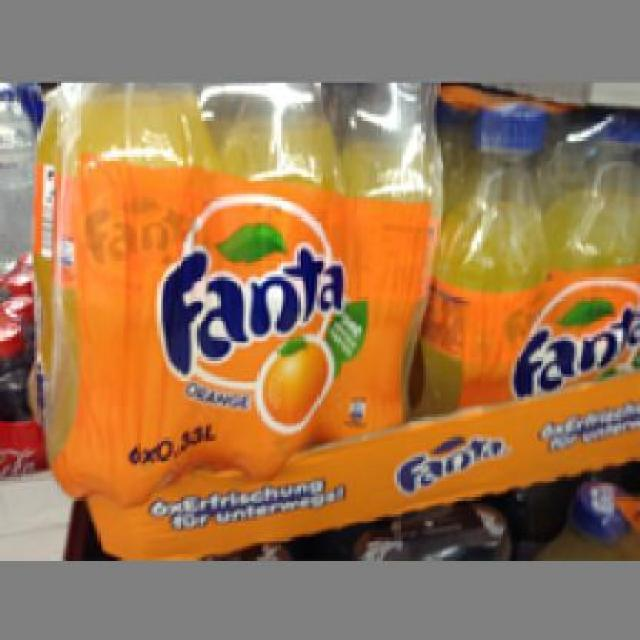Fanta: (52, 80, 212, 494), (209, 80, 337, 477), (323, 83, 440, 440), (417, 103, 546, 411), (546, 106, 637, 388)
